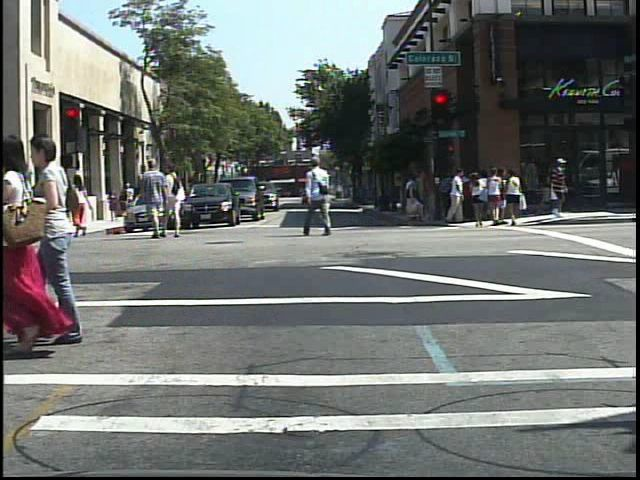person: (29, 124, 106, 348), (0, 129, 73, 364), (303, 152, 339, 242), (141, 155, 174, 243), (36, 167, 63, 244), (67, 168, 95, 242), (543, 154, 574, 219), (167, 160, 188, 240), (469, 171, 488, 231)
